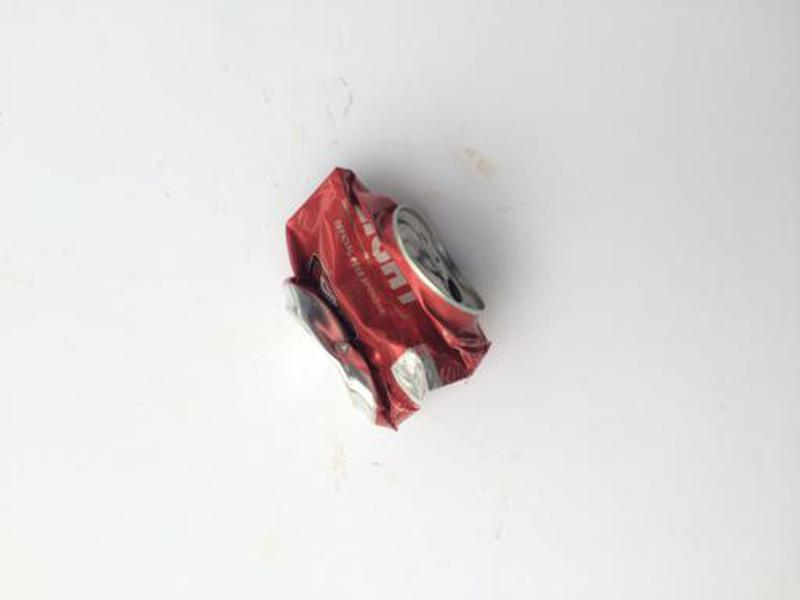can: (276, 164, 497, 434)
